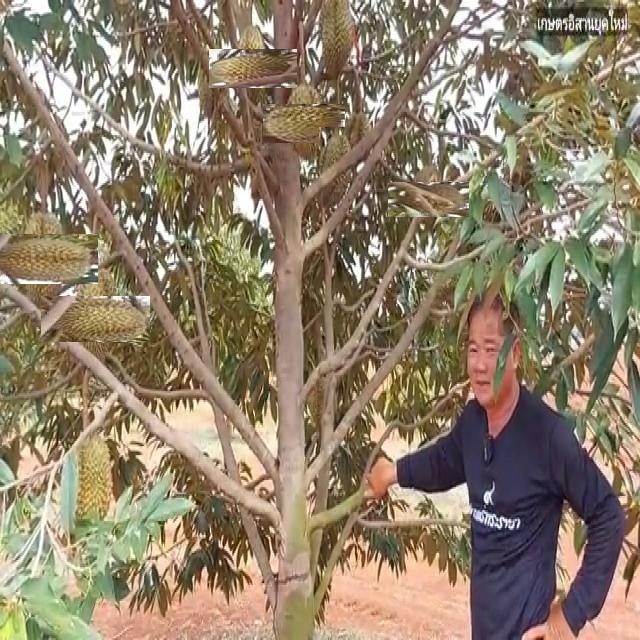durian: (1, 219, 83, 300), (56, 280, 134, 358), (67, 425, 115, 532), (221, 36, 285, 100), (273, 92, 335, 154), (312, 0, 358, 82), (399, 171, 458, 229), (319, 127, 354, 216)
